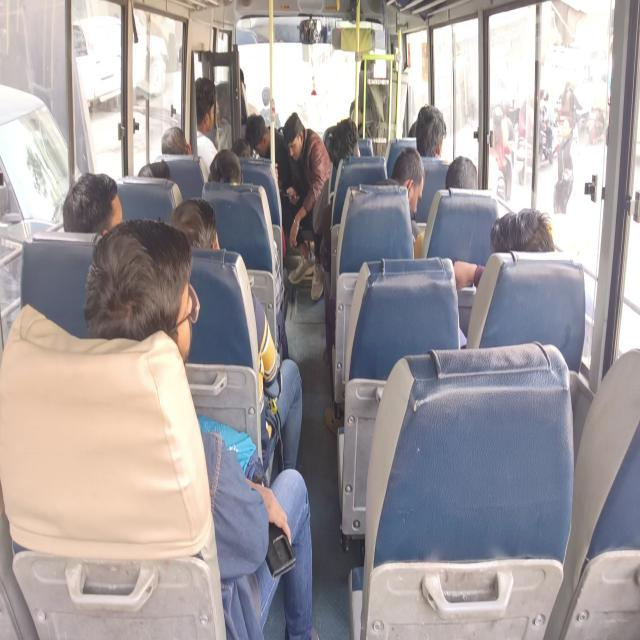person: (122, 247, 199, 376), (467, 203, 557, 271), (49, 162, 110, 243), (171, 194, 218, 260), (212, 34, 248, 95), (410, 98, 438, 168), (159, 118, 191, 173), (350, 56, 382, 104), (203, 150, 237, 194), (444, 159, 476, 203), (134, 159, 169, 197), (330, 136, 368, 171), (186, 76, 214, 122), (393, 171, 421, 206), (284, 116, 304, 160), (249, 119, 267, 158)
